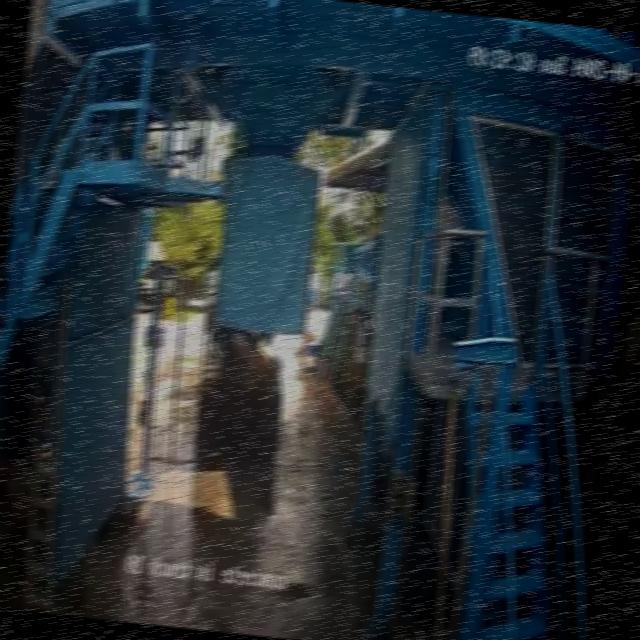cement_mixer_truck: (196, 259, 283, 460)
